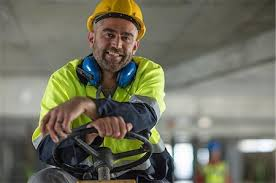Person_wearing_helmet: (83, 0, 148, 47)
